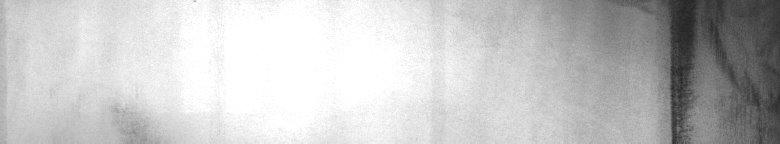ka: (619, 4, 776, 136)
